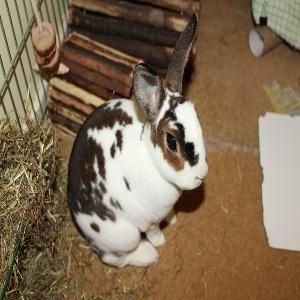rabbit: (67, 15, 209, 270)
